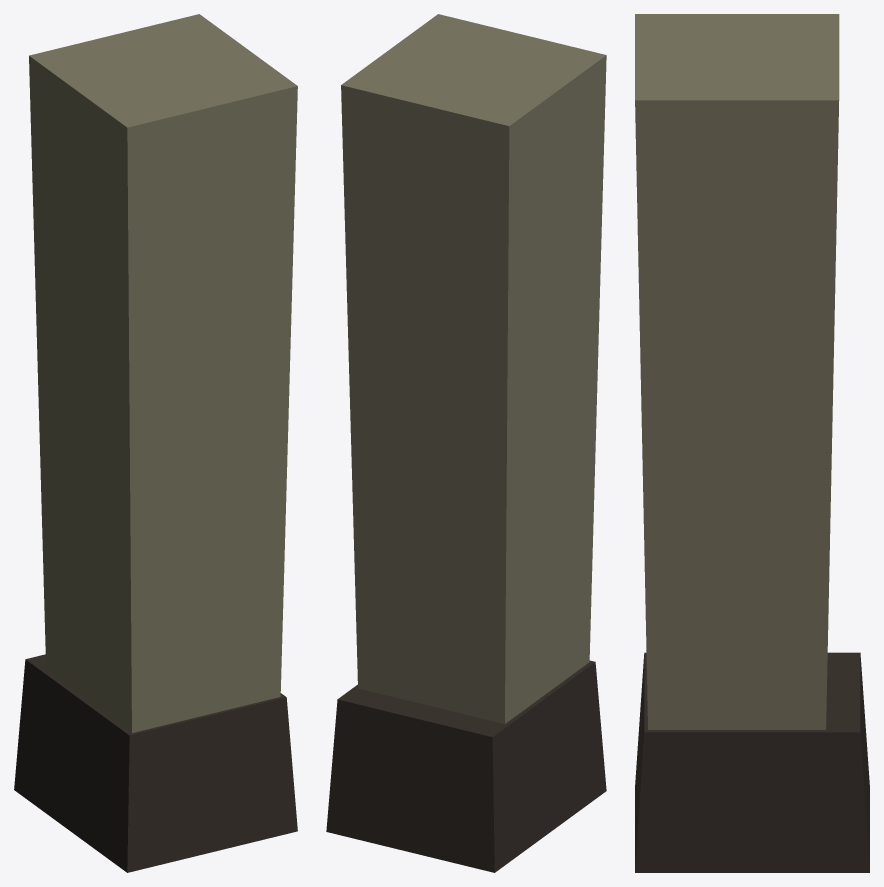
The model's file is animal_toxalope_leg.obj.
The picture shows the model from 3 angles, left to right: view 1: azimuth 30°, elevation 25°; view 2: azimuth 150°, elevation 25°; view 3: azimuth 270°, elevation 25°; orthographic projection. The views are drawn at different scales.
Parts seen in each view (by area): view 1: animal_toxalope_leg; view 2: animal_toxalope_leg; view 3: animal_toxalope_leg.
Part boxes in pixels (left/top/right/bottom): animal_toxalope_leg: left=14, top=14, right=297, bottom=872; animal_toxalope_leg: left=326, top=14, right=606, bottom=872; animal_toxalope_leg: left=635, top=14, right=869, bottom=872.
Size of the model in its own units: 0.0862 by 0.36 by 0.0992.
